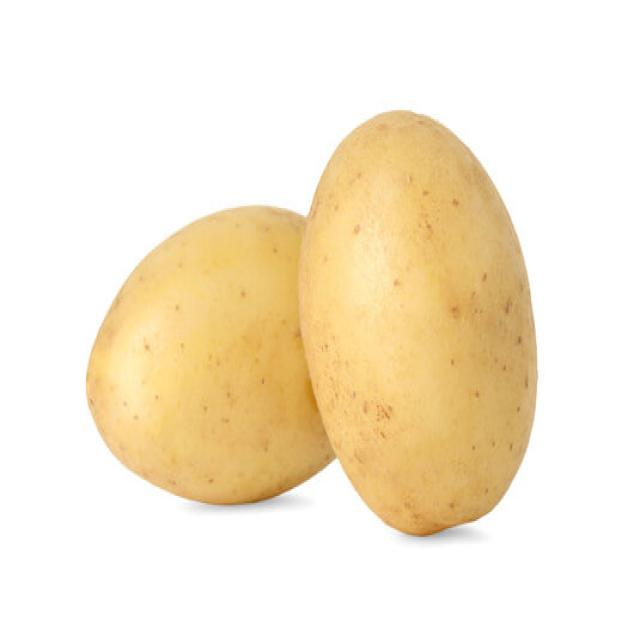Potato: (297, 107, 538, 535), (85, 201, 336, 505)
